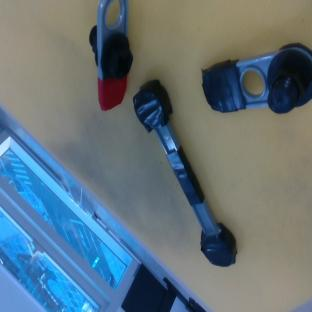part_3_bad: (126, 76, 244, 274)
